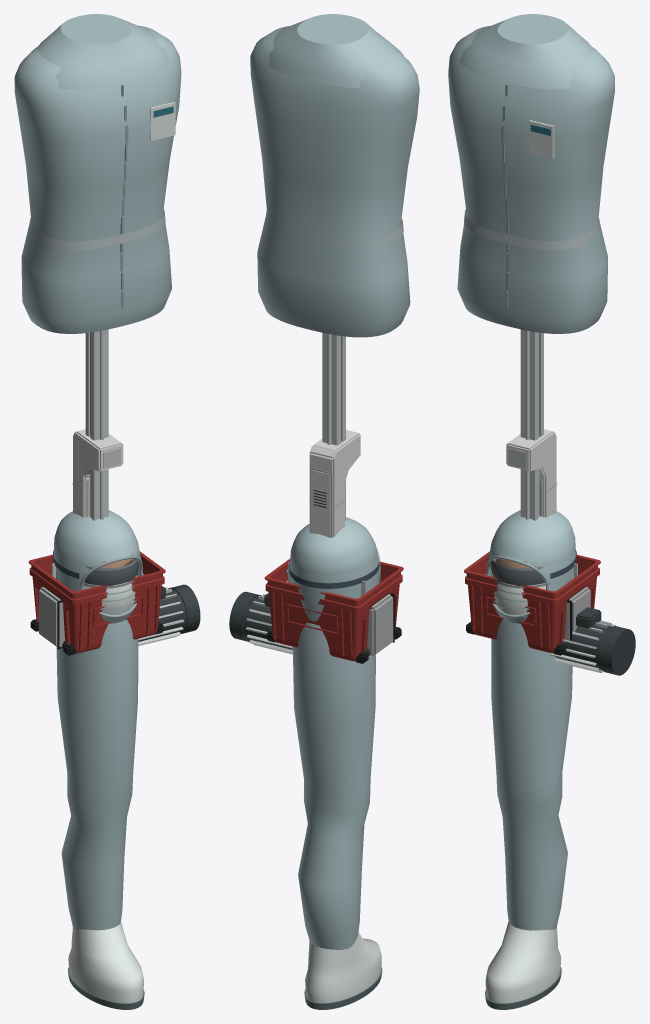
File: machine.glb
3 renders of one model, left to right at view 1: azimuth 30°, elevation 25°; view 2: azimuth 150°, elevation 25°; view 3: azimuth 330°, elevation 25°, orthographic.
Visible parts, largest first — view 1: Smock, Trouser, Head, Tote, Profile40, PressStandard, Gearmotor, JunctionBox, GuidedRam; view 2: Smock, Trouser, Tote, Head, PressStandard, Profile40, Gearmotor, JunctionBox, GuidedRam; view 3: Smock, Trouser, Head, Tote, Gearmotor, Profile40, PressStandard, GuidedRam, JunctionBox.
Part boxes in pixels (x1=…): Smock: x1=14, y1=14, x2=181, y2=333; Trouser: x1=56, y1=619, x2=144, y2=1009; Head: x1=53, y1=510, x2=142, y2=623; Tote: x1=28, y1=551, x2=165, y2=653; Profile40: x1=85, y1=329, x2=108, y2=520; PressStandard: x1=72, y1=429, x2=123, y2=517; Gearmotor: x1=138, y1=584, x2=200, y2=646; JunctionBox: x1=39, y1=574, x2=144, y2=649; GuidedRam: x1=100, y1=330, x2=103, y2=519; Smock: x1=250, y1=14, x2=419, y2=337; Trouser: x1=292, y1=622, x2=382, y2=1009; Tote: x1=264, y1=558, x2=403, y2=661; Head: x1=289, y1=517, x2=380, y2=621; PressStandard: x1=309, y1=430, x2=360, y2=537; Profile40: x1=322, y1=332, x2=345, y2=520; Gearmotor: x1=229, y1=591, x2=292, y2=654; JunctionBox: x1=286, y1=581, x2=394, y2=655; GuidedRam: x1=327, y1=334, x2=331, y2=444; Smock: x1=448, y1=14, x2=614, y2=333; Trouser: x1=485, y1=619, x2=572, y2=1009; Head: x1=486, y1=510, x2=576, y2=623; Tote: x1=464, y1=551, x2=600, y2=653; Gearmotor: x1=549, y1=607, x2=635, y2=675; Profile40: x1=520, y1=329, x2=543, y2=520; PressStandard: x1=506, y1=429, x2=557, y2=517; GuidedRam: x1=525, y1=330, x2=529, y2=519; JunctionBox: x1=485, y1=574, x2=590, y2=640.
Bounding box in the file's own units: 0.439 × 2.38 × 0.298.
